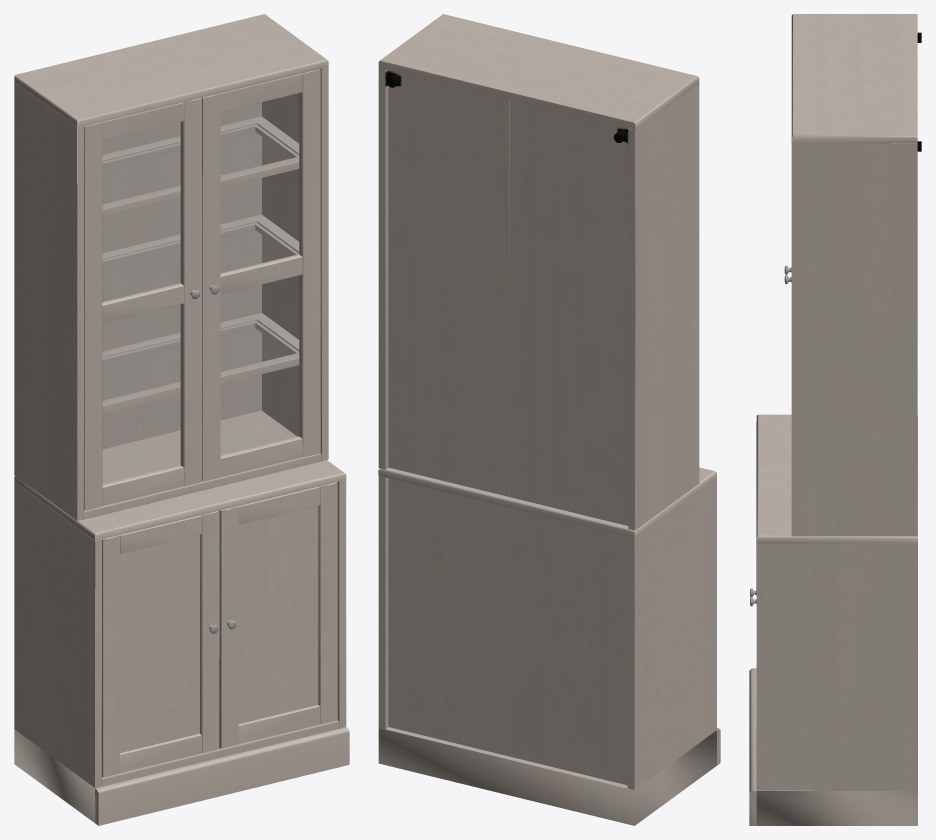
File: 19 - HAVSTA Storage combination w glass-doors - grey-beige 81x47x212 cm.glb
The picture shows the model from 3 angles, left to right: view 1: azimuth 30°, elevation 25°; view 2: azimuth 150°, elevation 25°; view 3: azimuth 270°, elevation 25°; orthographic projection.
Parts seen in each view (by area): view 1: Mesh_0, Mesh_1; view 2: Mesh_0; view 3: Mesh_0.
Boxes of the visible parts, left/top/right/bottom form: Mesh_0: left=14, top=14, right=349, bottom=825; Mesh_1: left=102, top=93, right=298, bottom=483; Mesh_0: left=378, top=14, right=720, bottom=825; Mesh_0: left=749, top=14, right=921, bottom=825.
Bounding box in the file's own units: 0.81 × 2.12 × 0.4797.
2 materials, 2 textured.
